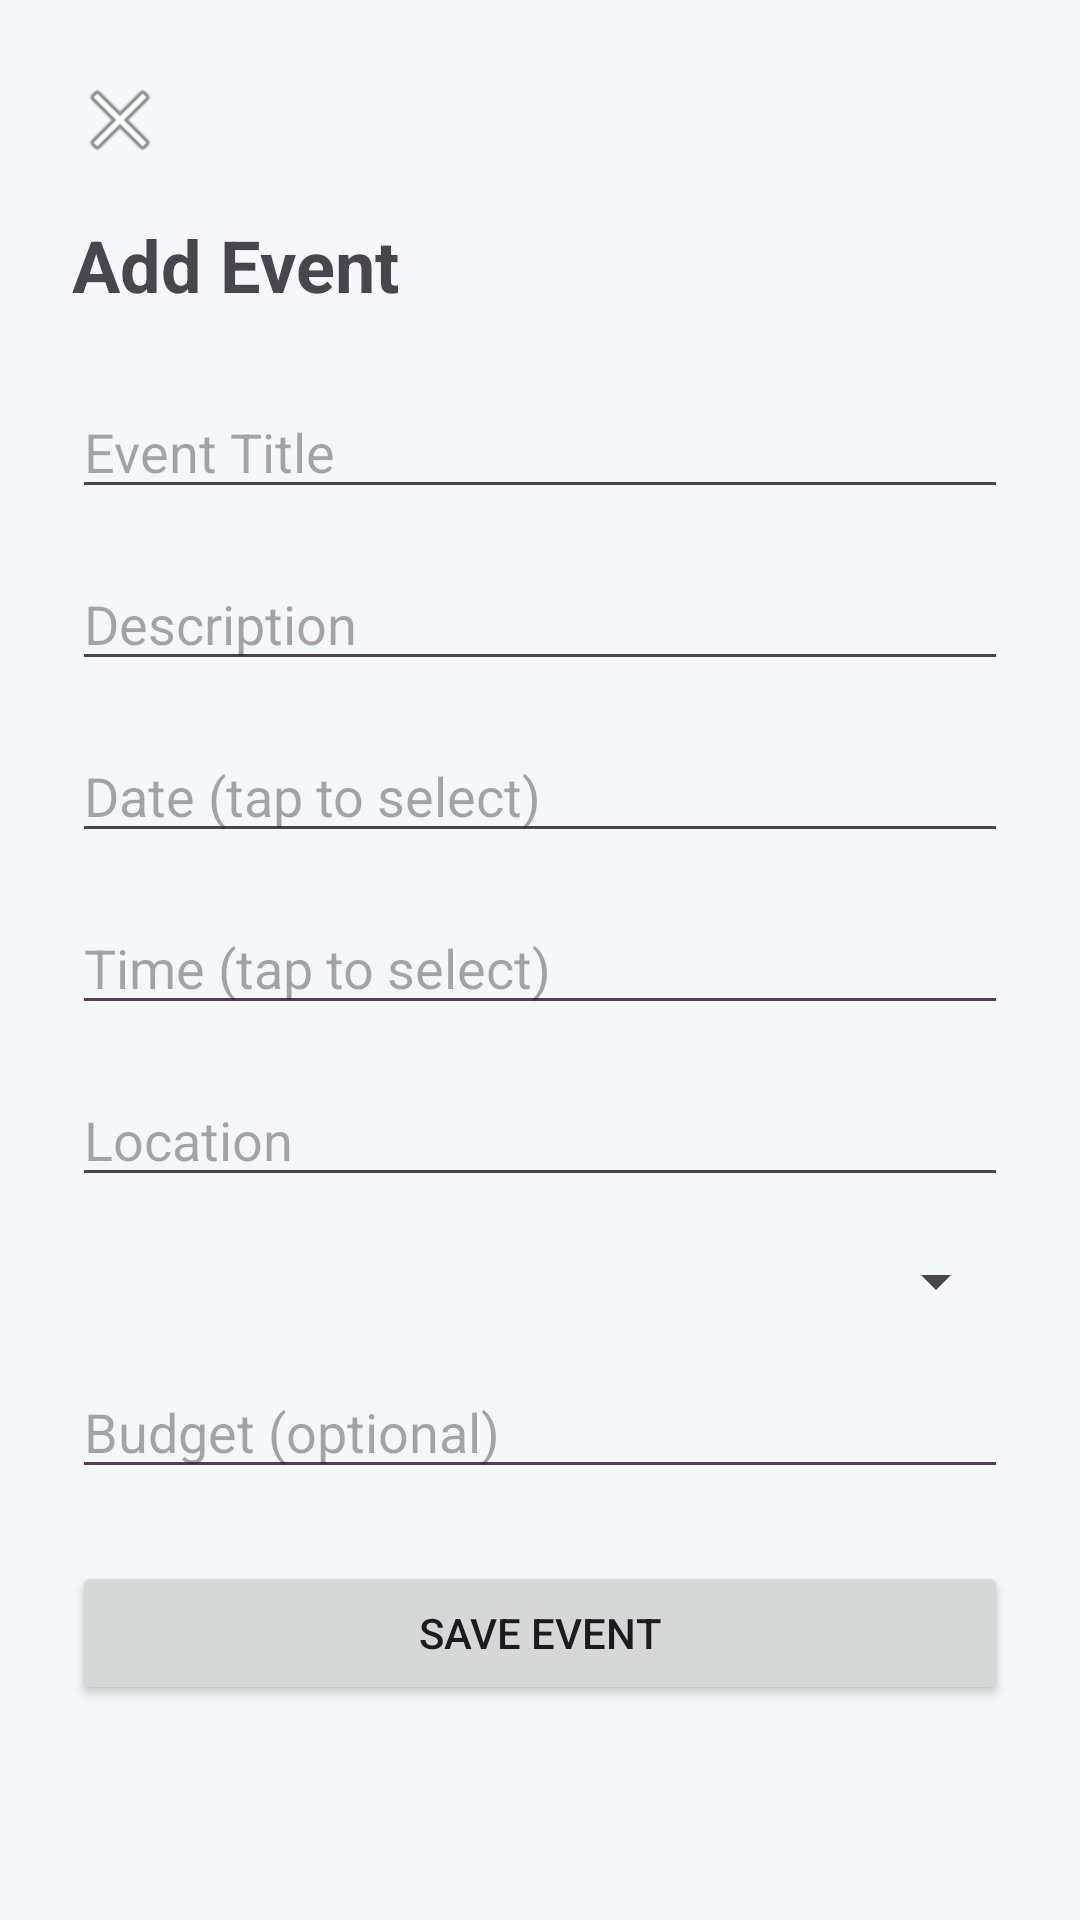

Named icons in this screenshot (1080x1920) and their bounding boxes, (left=x1, top=y1, right=x2, bottom=y2):
Back: (left=90, top=90, right=150, bottom=150)
